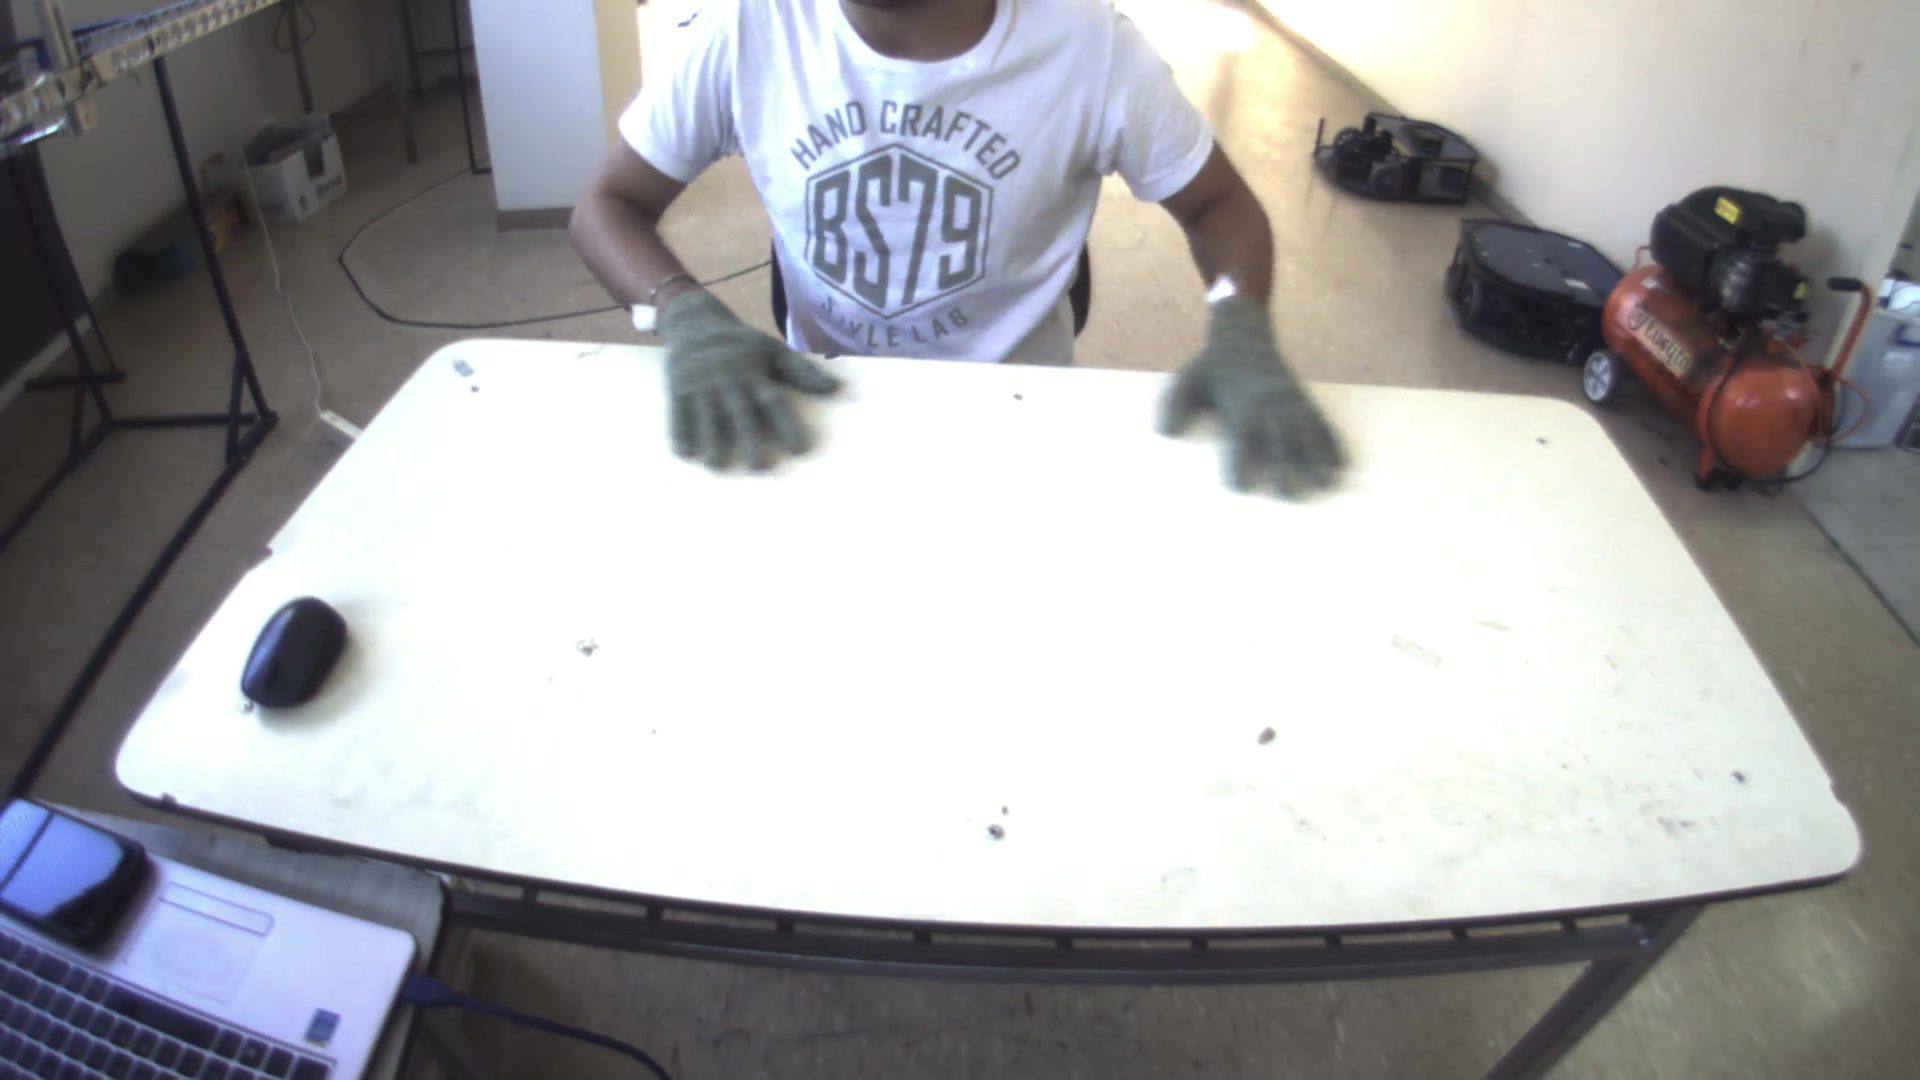hand: (1149, 289, 1353, 512), (636, 273, 851, 479)
